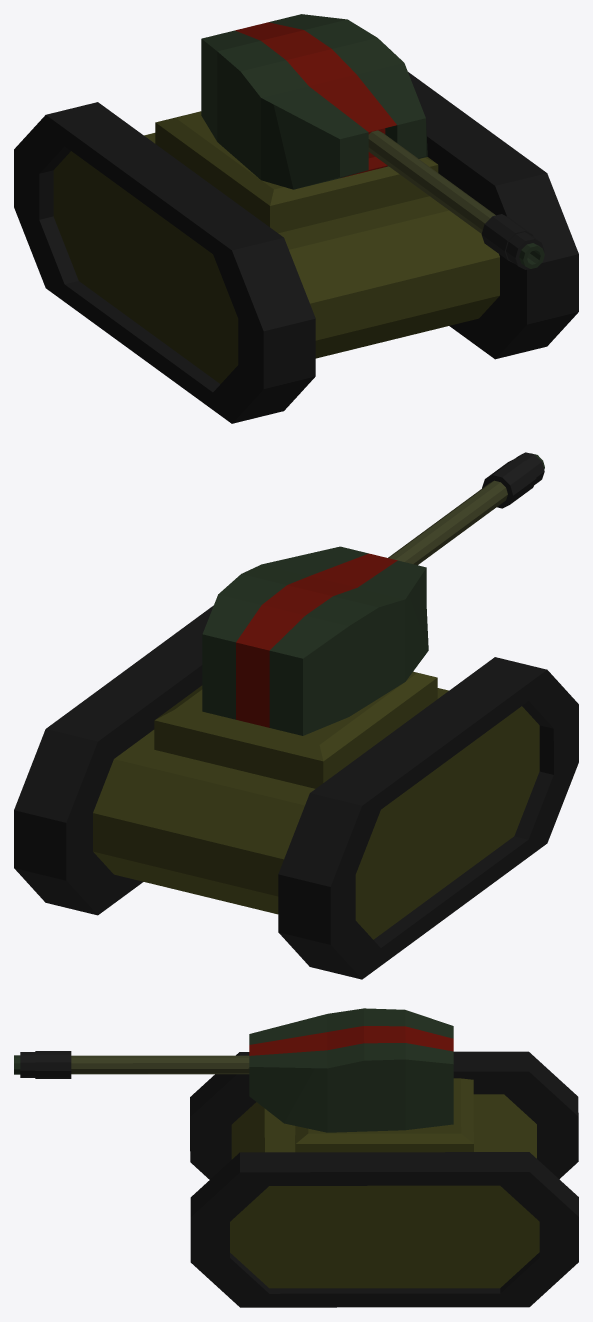
File: Panzertiemo.fbx
3 renders of one model, top to bottom at view 1: azimuth 30°, elevation 25°; view 2: azimuth 150°, elevation 25°; view 3: azimuth 270°, elevation 25°, orthographic. The views are drawn at different scales.
Visible parts, largest first — view 1: Panzer, Turret; view 2: Panzer, Turret; view 3: Panzer, Turret.
Boxes of the visible parts, bbox=[...] form: Panzer: bbox=[14, 72, 578, 423]; Turret: bbox=[201, 14, 544, 269]; Panzer: bbox=[14, 605, 578, 979]; Turret: bbox=[202, 452, 544, 735]; Panzer: bbox=[190, 1051, 578, 1307]; Turret: bbox=[14, 1008, 453, 1132].
Bounding box in the file's own units: 182 × 149 × 360.
